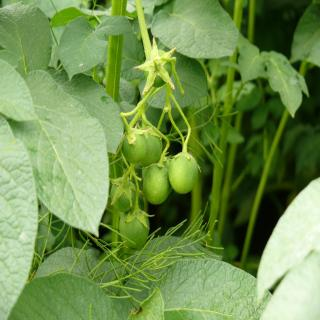tomato: (168, 149, 202, 193), (142, 162, 171, 201), (120, 207, 148, 246), (110, 176, 135, 210), (123, 132, 147, 161)
